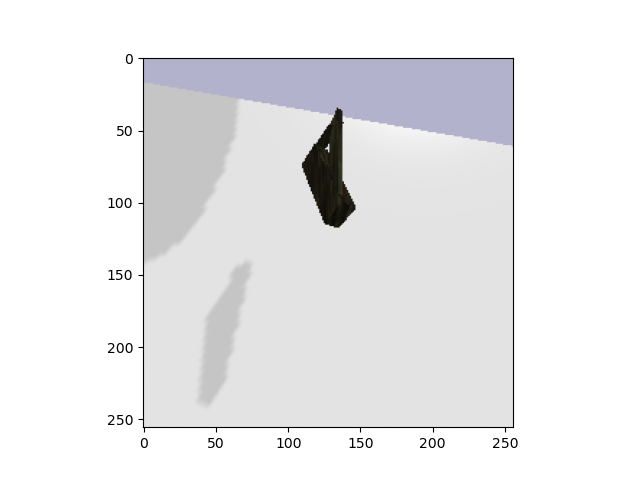v249b387_109: (296, 104, 364, 237)
